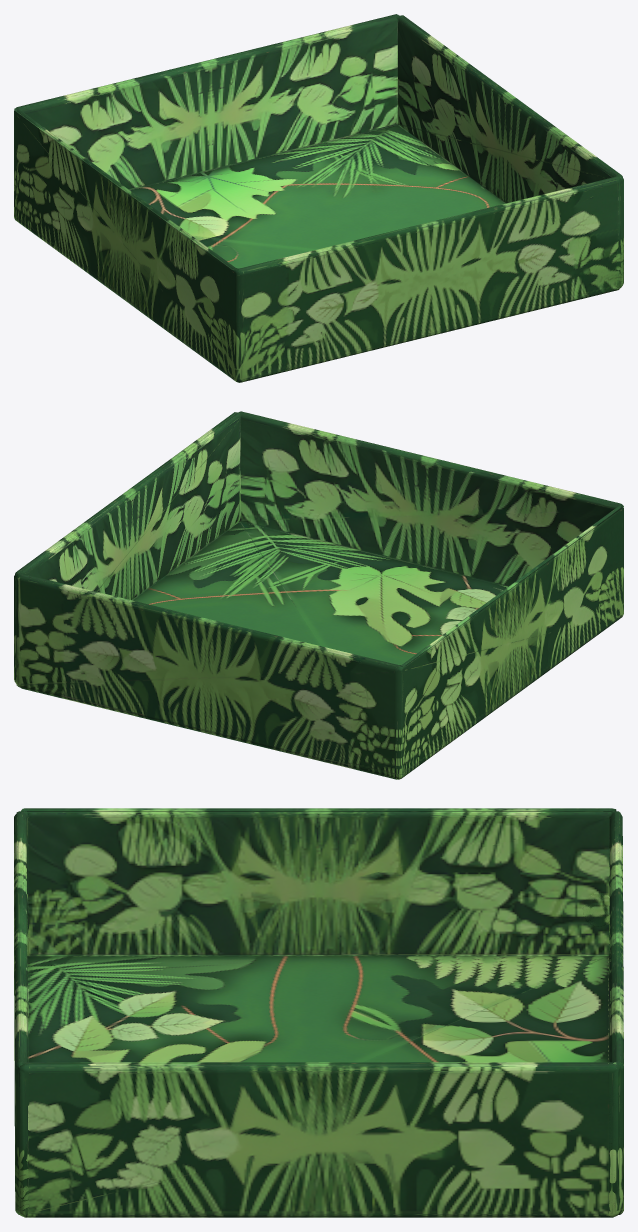
File: 3d-box-bluejay.glb
3 renders of one model, top to bottom at view 1: azimuth 30°, elevation 25°; view 2: azimuth 150°, elevation 25°; view 3: azimuth 270°, elevation 25°, orthographic. The views are drawn at different scales.
Visible parts, largest first — view 1: Mesh_0.002; view 2: Mesh_0.002; view 3: Mesh_0.002.
Part boxes in pixels (box(x1,y1,x2,y2)): Mesh_0.002: box(14, 14, 623, 382); Mesh_0.002: box(14, 411, 623, 779); Mesh_0.002: box(14, 808, 623, 1217).
Bounding box in the file's own units: 1.9 × 0.5284 × 1.9.
Materials: 1 (1 with a texture image).
